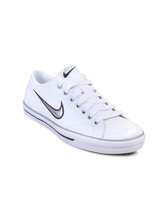shoes: (21, 62, 150, 160)
